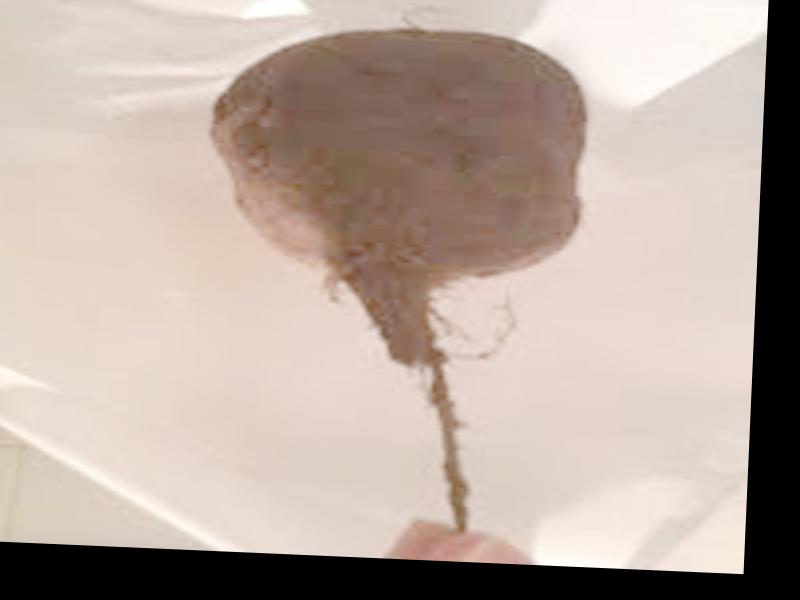Beet: (190, 19, 589, 542)
